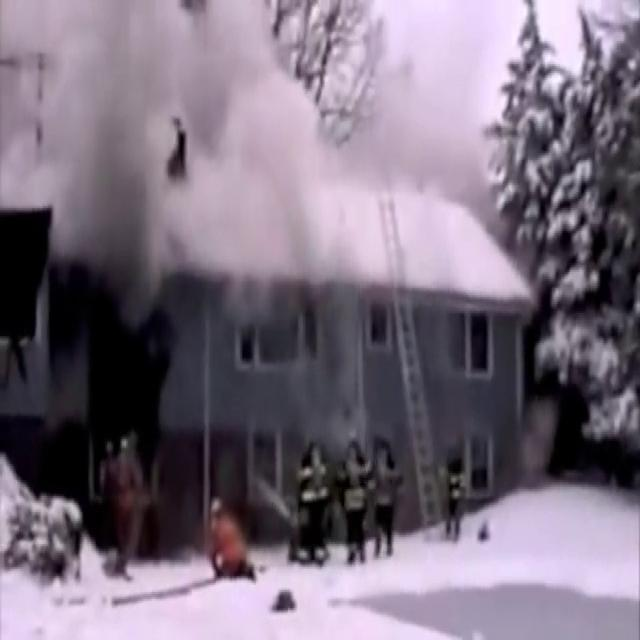Smoke: (2, 0, 539, 284)
